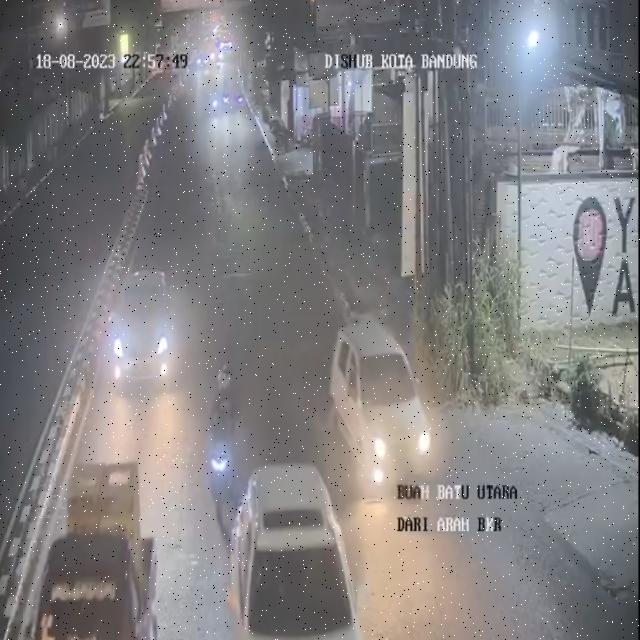cars: (230, 455, 374, 640), (329, 314, 440, 501), (23, 516, 156, 637), (111, 262, 180, 400)
motorcycle: (200, 350, 248, 525)
